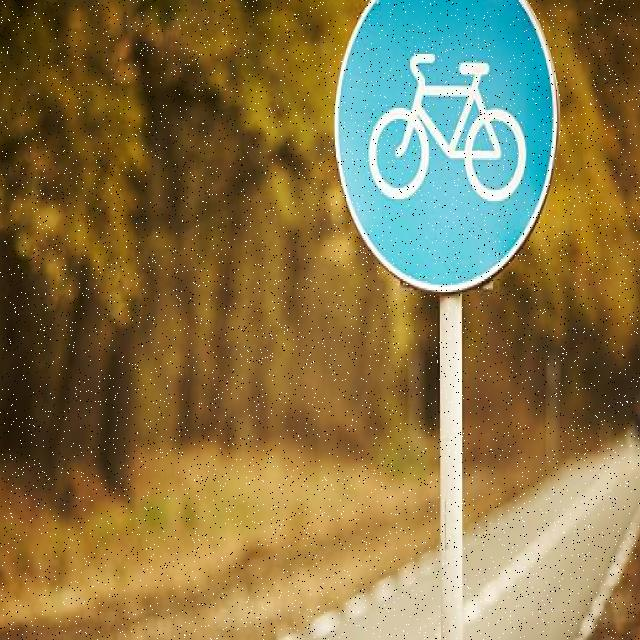bicycle: (320, 0, 566, 290)
